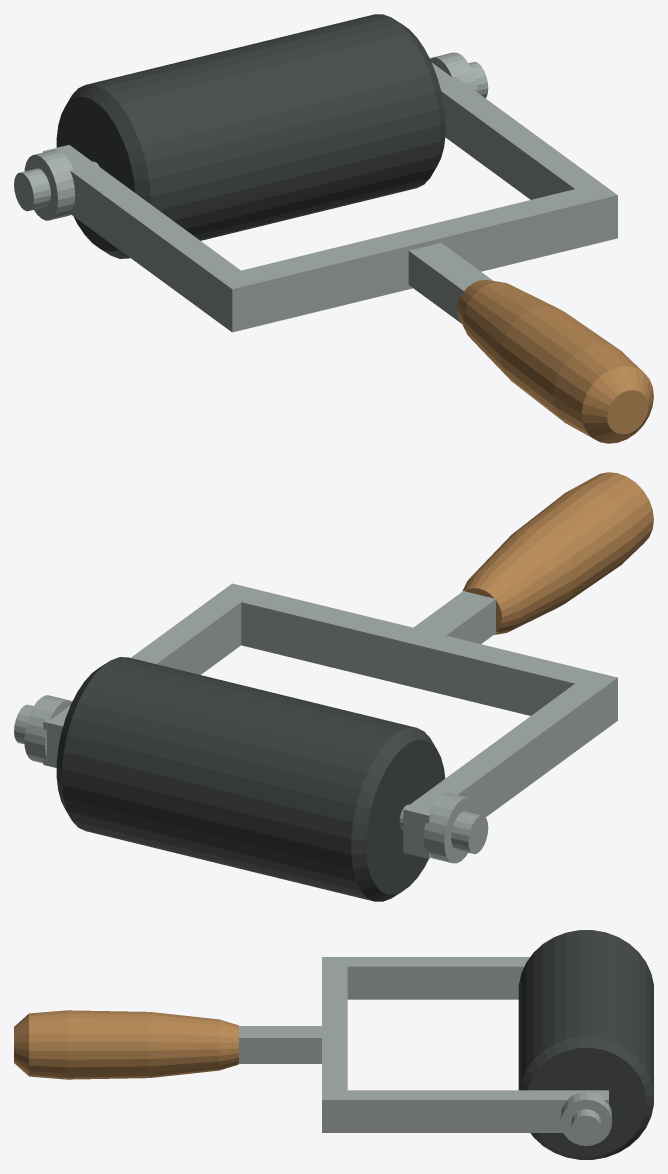
3 views of the same model, one above another, from view 1: azimuth 30°, elevation 25°; view 2: azimuth 150°, elevation 25°; view 3: azimuth 270°, elevation 25° (orthographic). The views are drawn at different scales.
Visible parts, largest first — view 1: WholeGroundFootBoredInkingRoller, WholeContinuousDoubleSidedFork, WholeShortSwellingCentralGrip, WholeCentralHandleTang, WholeOuterBearingCollar_0, WholeAxleEndCap_0, WholeOuterBearingCollar_1; view 2: WholeGroundFootBoredInkingRoller, WholeContinuousDoubleSidedFork, WholeShortSwellingCentralGrip, WholeCentralHandleTang, WholeOuterBearingCollar_0, WholeOuterBearingCollar_1, WholeAxleEndCap_0; view 3: WholeGroundFootBoredInkingRoller, WholeContinuousDoubleSidedFork, WholeShortSwellingCentralGrip, WholeCentralHandleTang, WholeOuterBearingCollar_1, WholeAxleEndCap_1.
Boxes of the visible parts, left/top/right/bottom form: WholeGroundFootBoredInkingRoller: left=56, top=14, right=445, bottom=258; WholeContinuousDoubleSidedFork: left=43, top=57, right=617, bottom=332; WholeShortSwellingCentralGrip: left=457, top=280, right=653, bottom=443; WholeCentralHandleTang: left=408, top=242, right=492, bottom=323; WholeOuterBearingCollar_0: left=24, top=150, right=75, bottom=220; WholeAxleEndCap_0: left=14, top=168, right=50, bottom=211; WholeOuterBearingCollar_1: left=430, top=52, right=477, bottom=92; WholeGroundFootBoredInkingRoller: left=56, top=657, right=445, bottom=901; WholeContinuousDoubleSidedFork: left=43, top=583, right=617, bottom=858; WholeShortSwellingCentralGrip: left=462, top=472, right=653, bottom=634; WholeCentralHandleTang: left=414, top=590, right=496, bottom=643; WholeOuterBearingCollar_0: left=423, top=793, right=477, bottom=863; WholeOuterBearingCollar_1: left=24, top=695, right=71, bottom=763; WholeAxleEndCap_0: left=451, top=811, right=488, bottom=854; WholeGroundFootBoredInkingRoller: left=518, top=930, right=653, bottom=1159; WholeContinuousDoubleSidedFork: left=322, top=957, right=608, bottom=1132; WholeShortSwellingCentralGrip: left=14, top=1010, right=238, bottom=1079; WholeCentralHandleTang: left=237, top=1026, right=321, bottom=1063; WholeOuterBearingCollar_1: left=560, top=1092, right=611, bottom=1145; WholeAxleEndCap_1: left=571, top=1109, right=601, bottom=1142.
Bounding box in the file's own units: 0.264 × 0.0896 × 0.4238.
